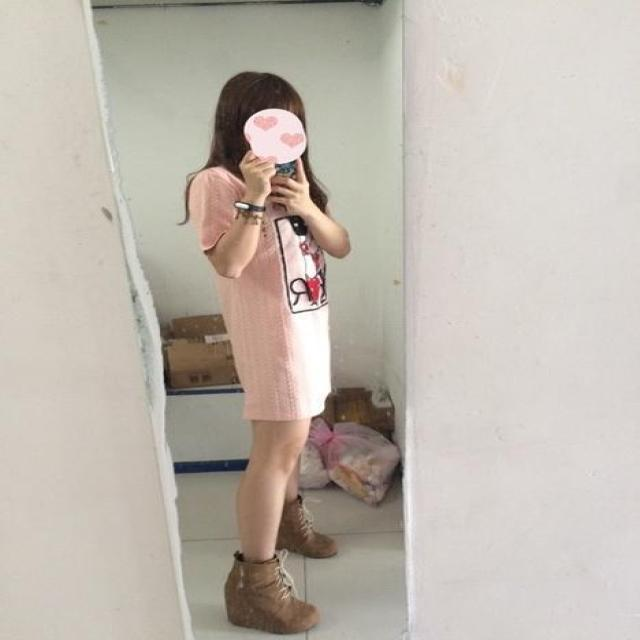short sleeve dress: (189, 158, 332, 421)
